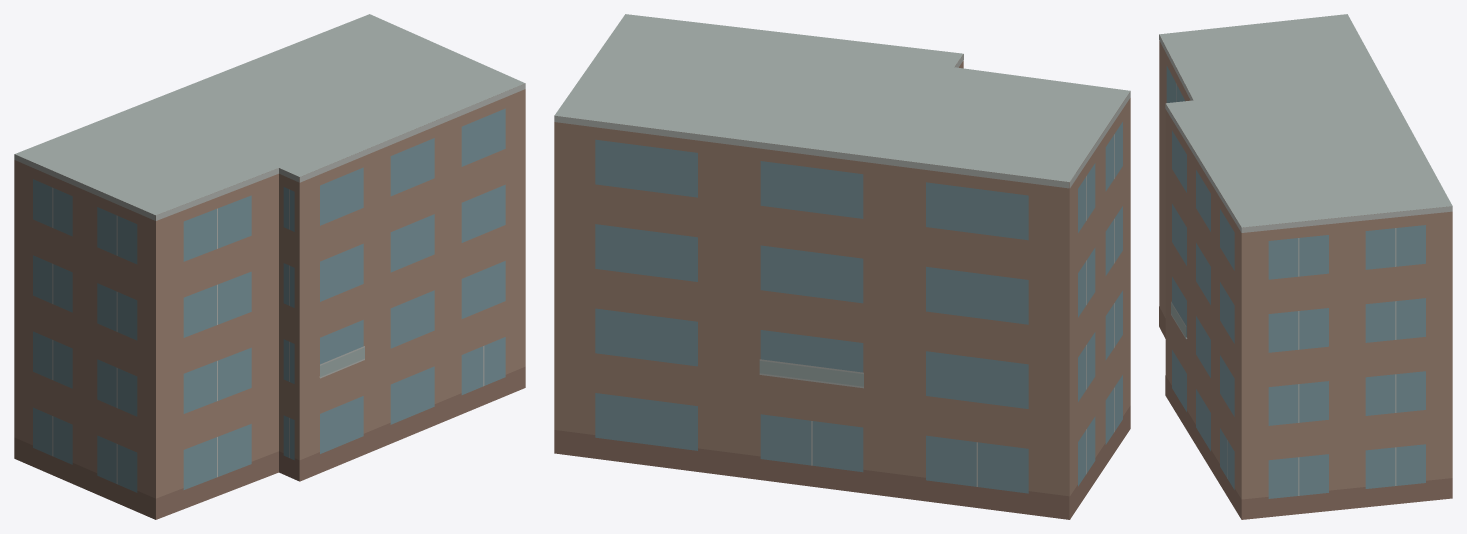
The model's file is survey-upis-32812645.glb.
3 renders of one model, left to right at view 1: azimuth 30°, elevation 25°; view 2: azimuth 150°, elevation 25°; view 3: azimuth 270°, elevation 25°, orthographic. The views are drawn at different scales.
Visible parts, largest first — view 1: survey-upis-32812645.tmp; view 2: survey-upis-32812645.tmp; view 3: survey-upis-32812645.tmp.
Part boxes in pixels (left/top/right/bottom): survey-upis-32812645.tmp: left=14, top=14, right=525, bottom=519; survey-upis-32812645.tmp: left=554, top=14, right=1130, bottom=519; survey-upis-32812645.tmp: left=1159, top=14, right=1452, bottom=519.
Bounding box in the file's own units: 20.38 × 13 × 11.84.
